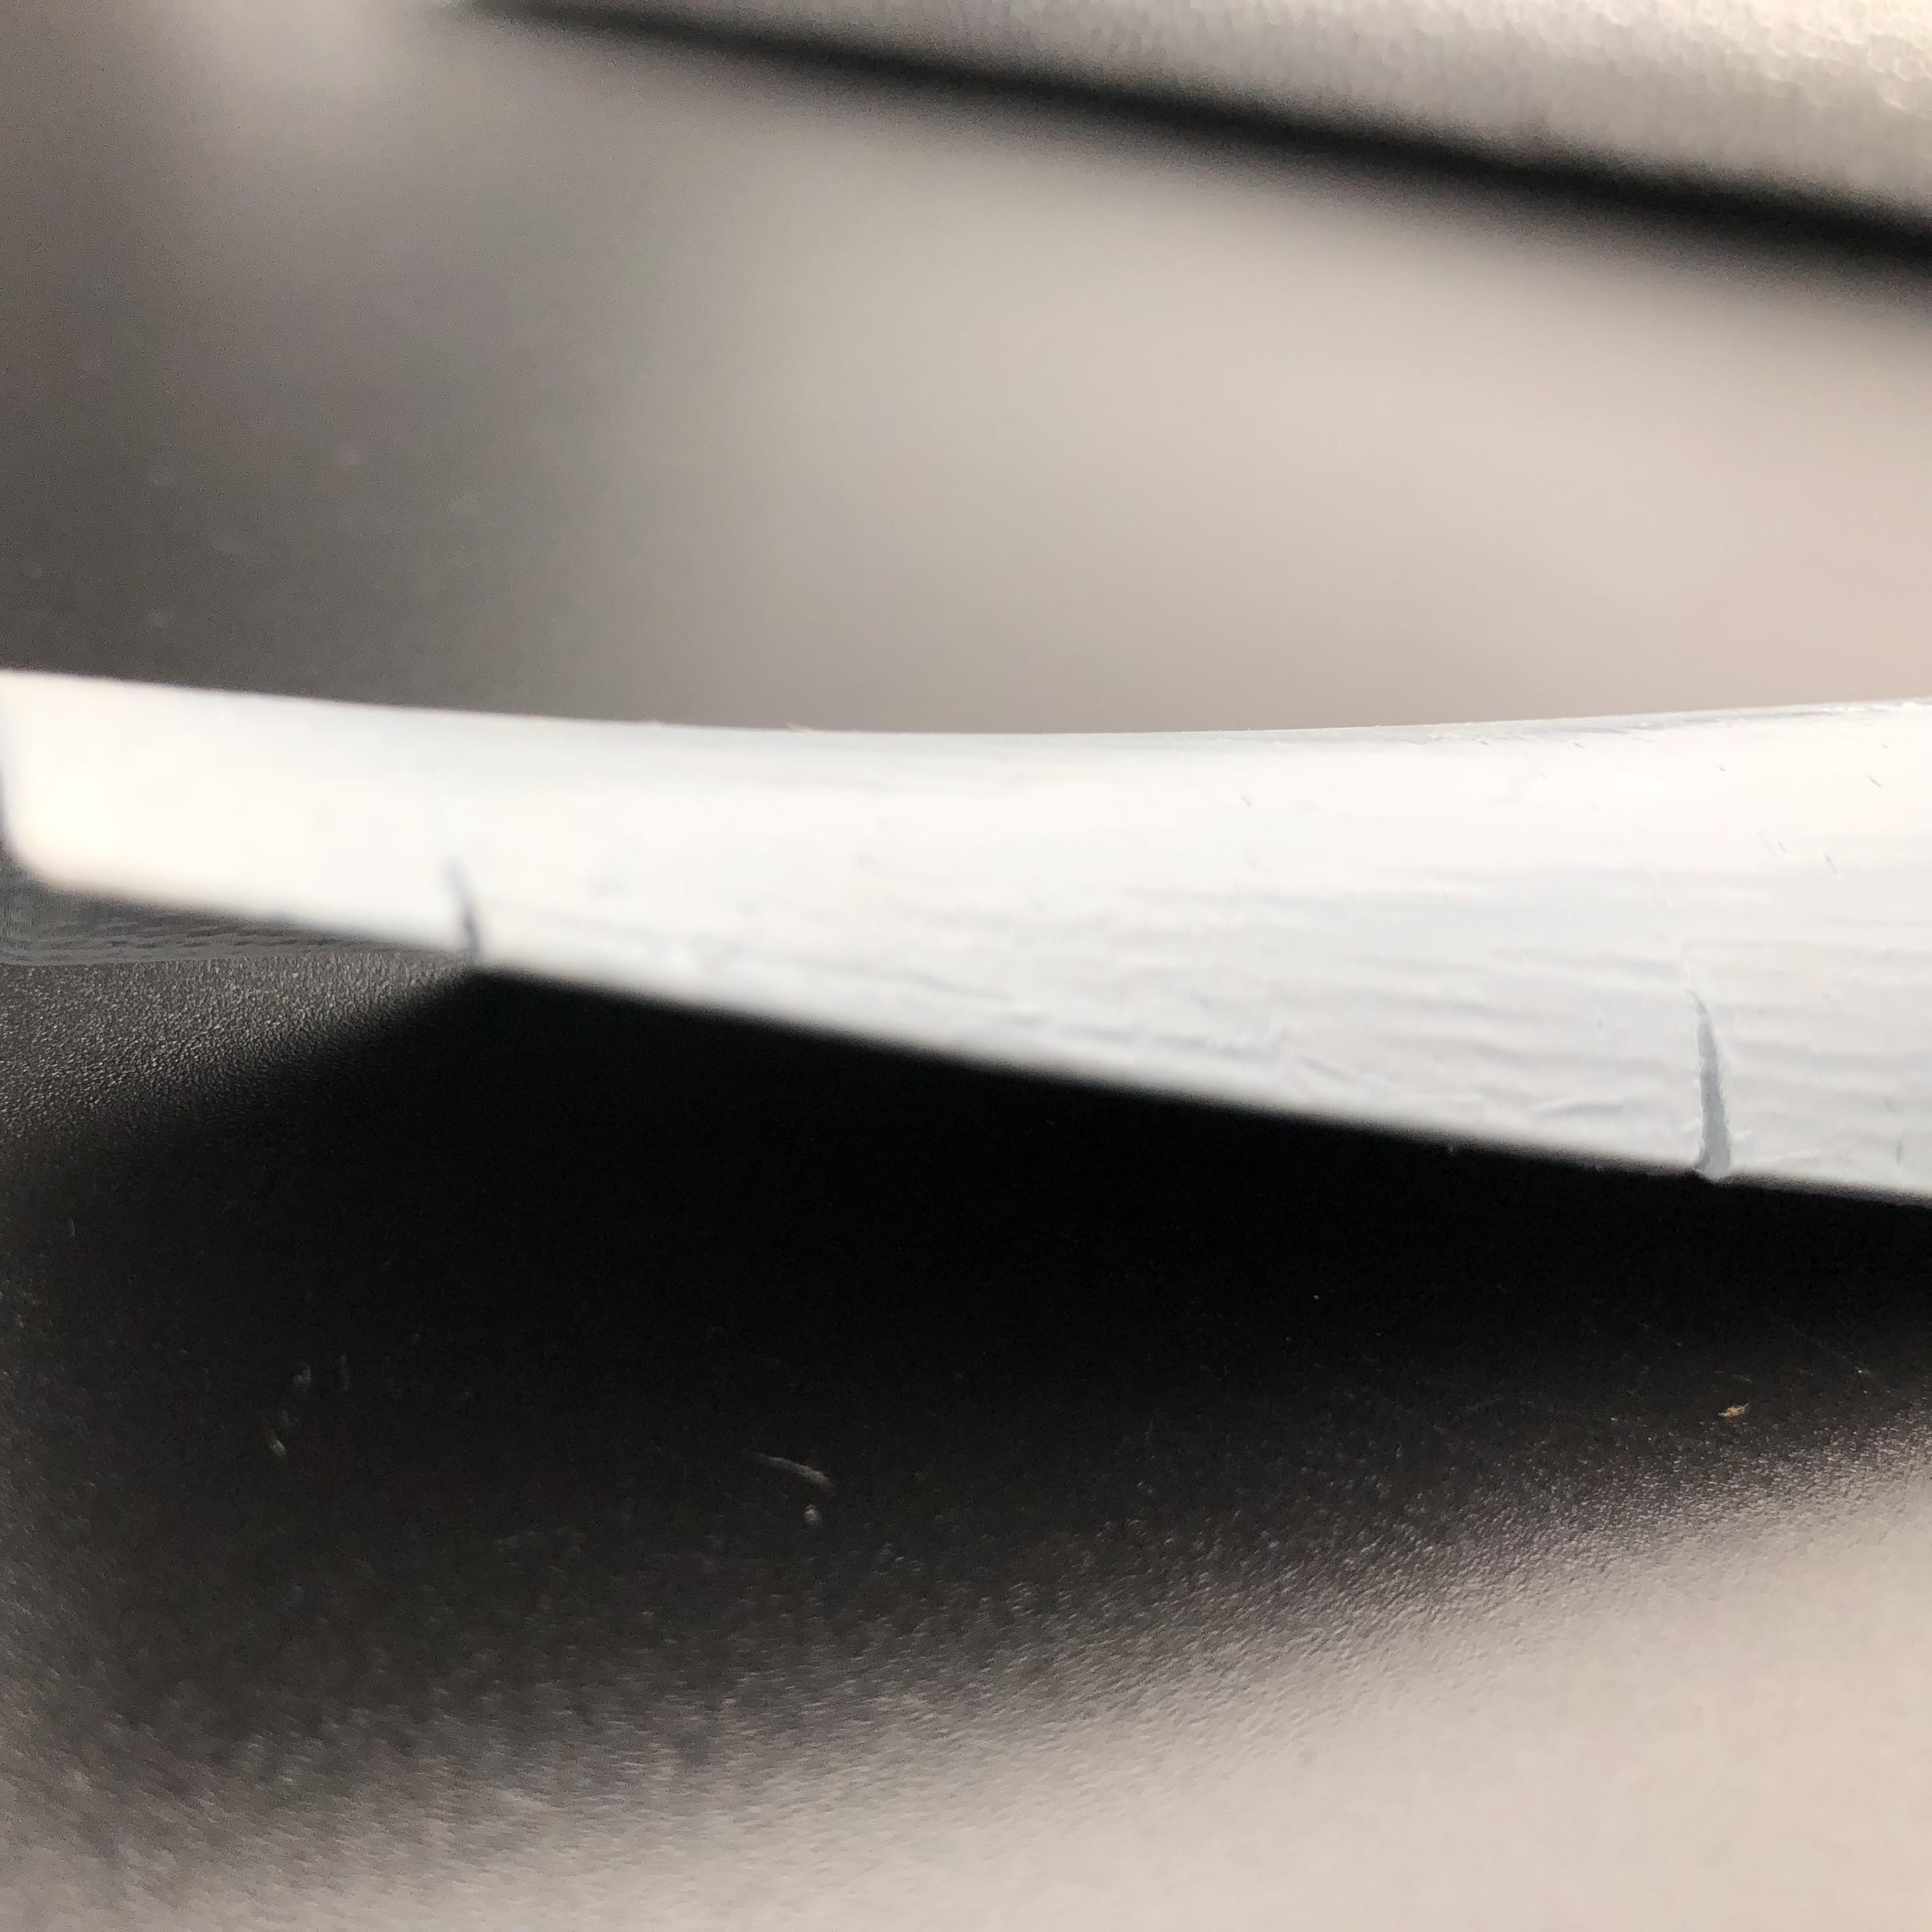groove: (1674, 1012, 1764, 1173), (442, 897, 506, 964)
